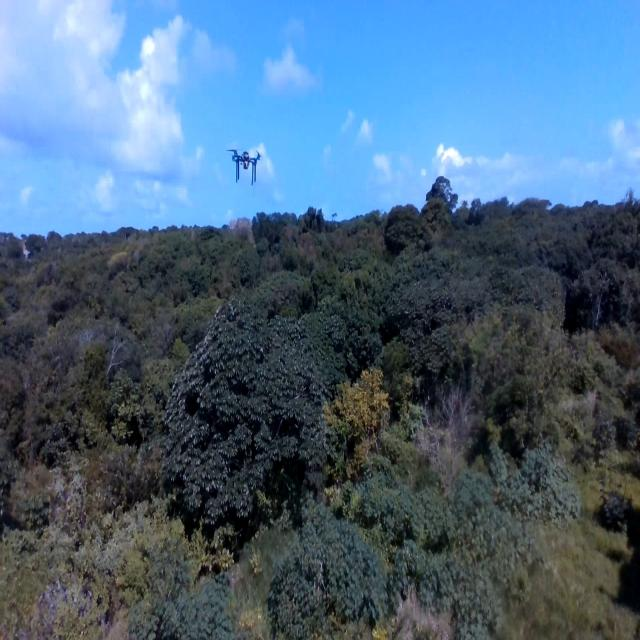-uav-: (223, 138, 267, 196)
